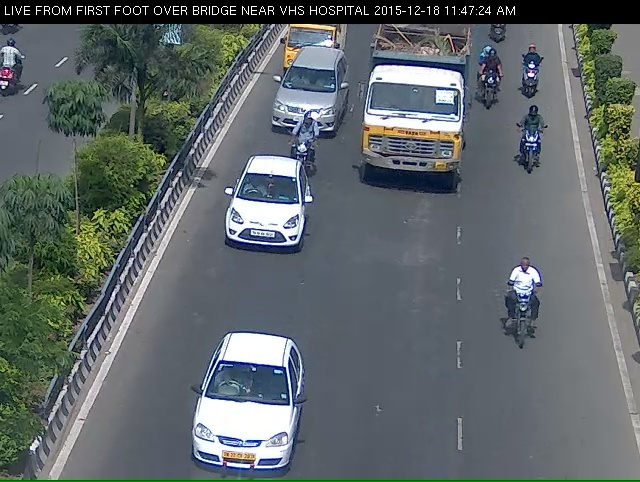Auto: (274, 22, 341, 87), (272, 24, 341, 86)
Bus: (357, 23, 468, 198)
Car: (159, 361, 307, 479), (224, 167, 307, 279), (268, 65, 343, 147)
Person: (498, 279, 553, 363), (517, 116, 545, 187), (473, 57, 504, 115), (289, 128, 318, 187), (521, 54, 546, 104)
